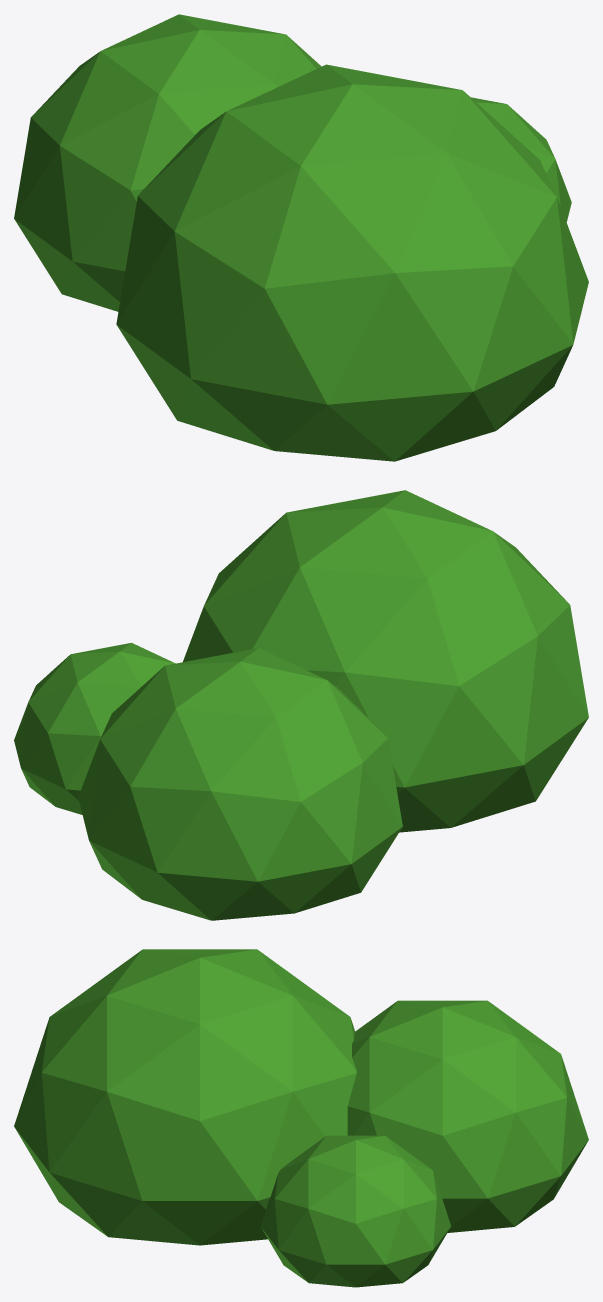
File: ENV_Bush01_Placeholder.fbx
3 renders of one model, top to bottom at view 1: azimuth 30°, elevation 25°; view 2: azimuth 150°, elevation 25°; view 3: azimuth 270°, elevation 25°, orthographic. The views are drawn at different scales.
Visible parts, largest first — view 1: Icosphere.004; view 2: Icosphere.004; view 3: Icosphere.004.
Part boxes in pixels (bbox=[...]): Icosphere.004: bbox=[14, 14, 588, 461]; Icosphere.004: bbox=[14, 490, 588, 920]; Icosphere.004: bbox=[14, 949, 588, 1287].
Size of the model in its own units: 309 by 239 by 134.
